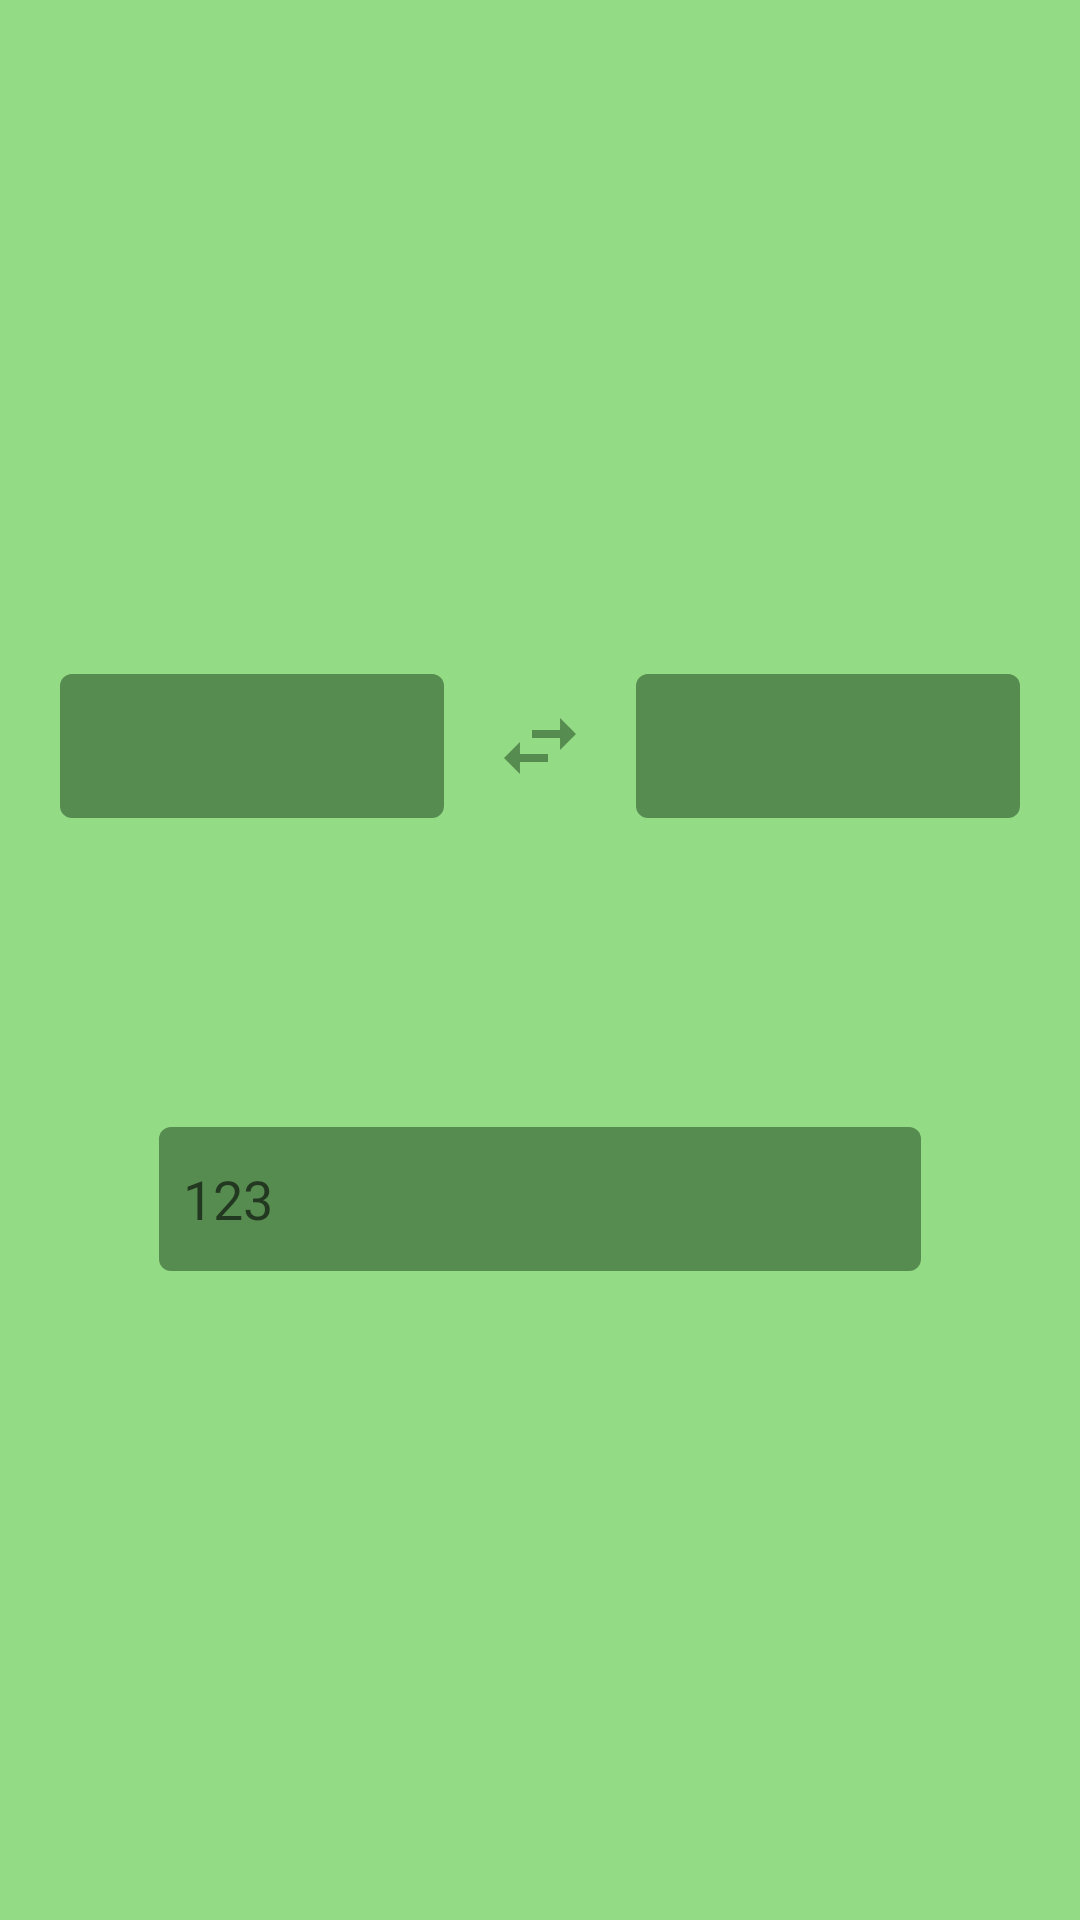

Icon click points for this 1080px×1920px phone screenshot, format point (x, y):
Swap Image: point (540, 746)
